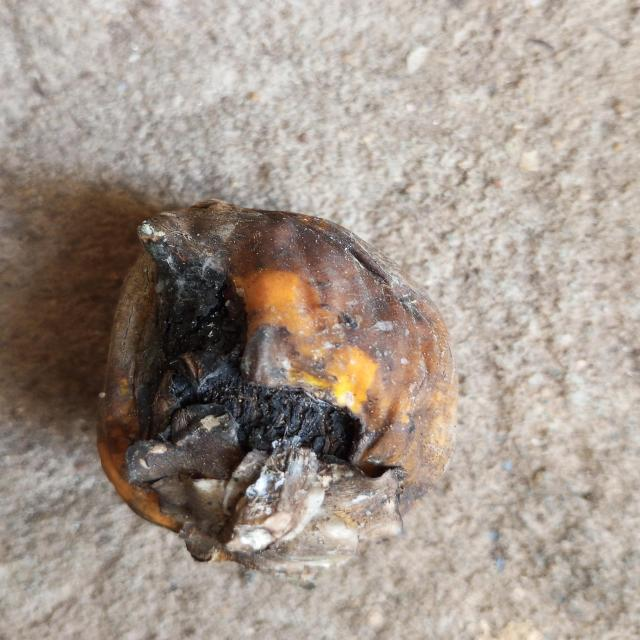damaged: (98, 200, 457, 575)
